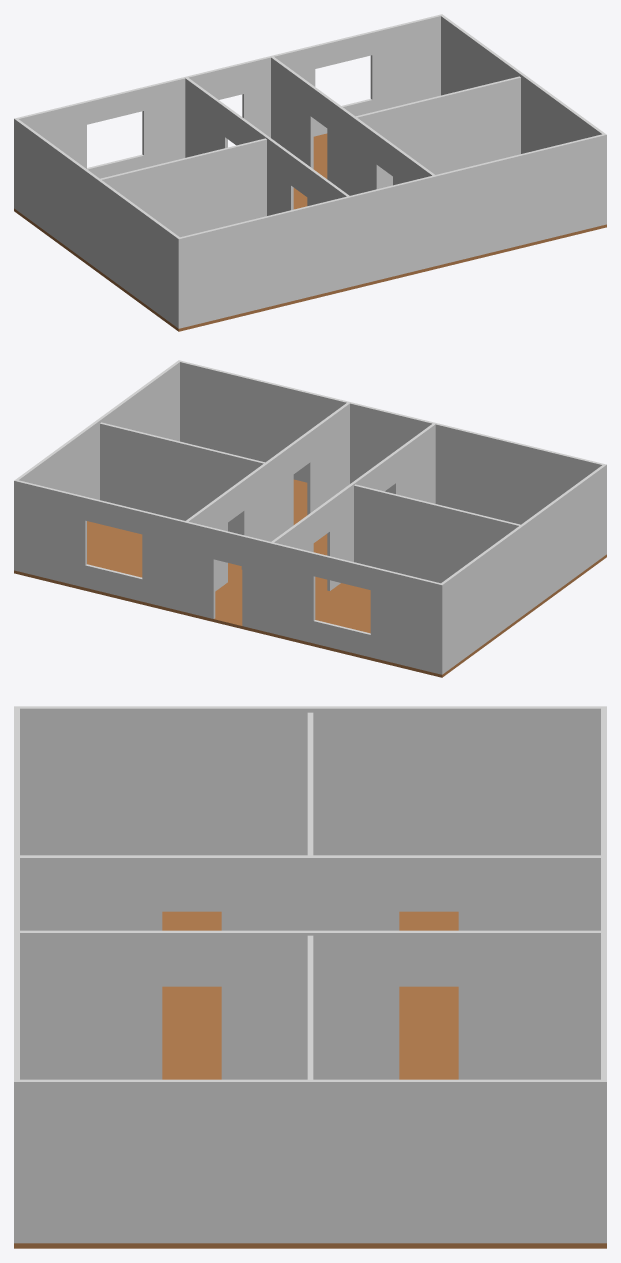
Rendered from DamagedHelmet.glb.
The picture shows the model from 3 angles, top to bottom: view 1: azimuth 30°, elevation 25°; view 2: azimuth 150°, elevation 25°; view 3: azimuth 270°, elevation 25°; orthographic projection. The views are drawn at different scales.
Visible parts, largest first — view 1: Cube, Cube.001, Cube.005, Cube.006, Cube.007, Cube.003, Cube.004, Cube.002, Sześcian; view 2: Cube.001, Cube, Cube.005, Cube.006, Cube.003, Cube.007, Sześcian, Cube.004, Cube.002; view 3: Cube.004, Cube.005, Cube.003, Cube.002, Sześcian, Cube.001, Cube, Cube.006, Cube.007.
Boxes of the visible parts, bbox=[...] form: Cube: bbox=[177, 134, 606, 328]; Cube.001: bbox=[14, 14, 443, 208]; Cube.005: bbox=[15, 119, 181, 328]; Cube.006: bbox=[356, 76, 520, 188]; Cube.007: bbox=[100, 138, 266, 237]; Cube.003: bbox=[271, 56, 436, 266]; Cube.004: bbox=[440, 14, 606, 224]; Cube.002: bbox=[185, 77, 351, 287]; Sześcian: bbox=[14, 133, 606, 331]; Cube.001: bbox=[17, 480, 443, 674]; Cube: bbox=[177, 360, 606, 553]; Cube.005: bbox=[439, 465, 606, 674]; Cube.006: bbox=[100, 422, 264, 534]; Cube.003: bbox=[184, 402, 349, 612]; Cube.007: bbox=[354, 484, 520, 583]; Sześcian: bbox=[14, 479, 606, 677]; Cube.004: bbox=[14, 360, 179, 570]; Cube.002: bbox=[269, 423, 435, 633]; Cube.004: bbox=[14, 1079, 606, 1243]; Cube.005: bbox=[14, 706, 606, 855]; Cube.003: bbox=[14, 930, 606, 1079]; Cube.002: bbox=[14, 855, 606, 930]; Sześcian: bbox=[14, 911, 606, 1248]; Cube.001: bbox=[601, 706, 606, 1243]; Cube: bbox=[14, 706, 19, 1243]; Cube.006: bbox=[307, 935, 313, 1079]; Cube.007: bbox=[307, 712, 313, 855].
Bounding box in the file's own units: 15 × 3.1 × 10.
